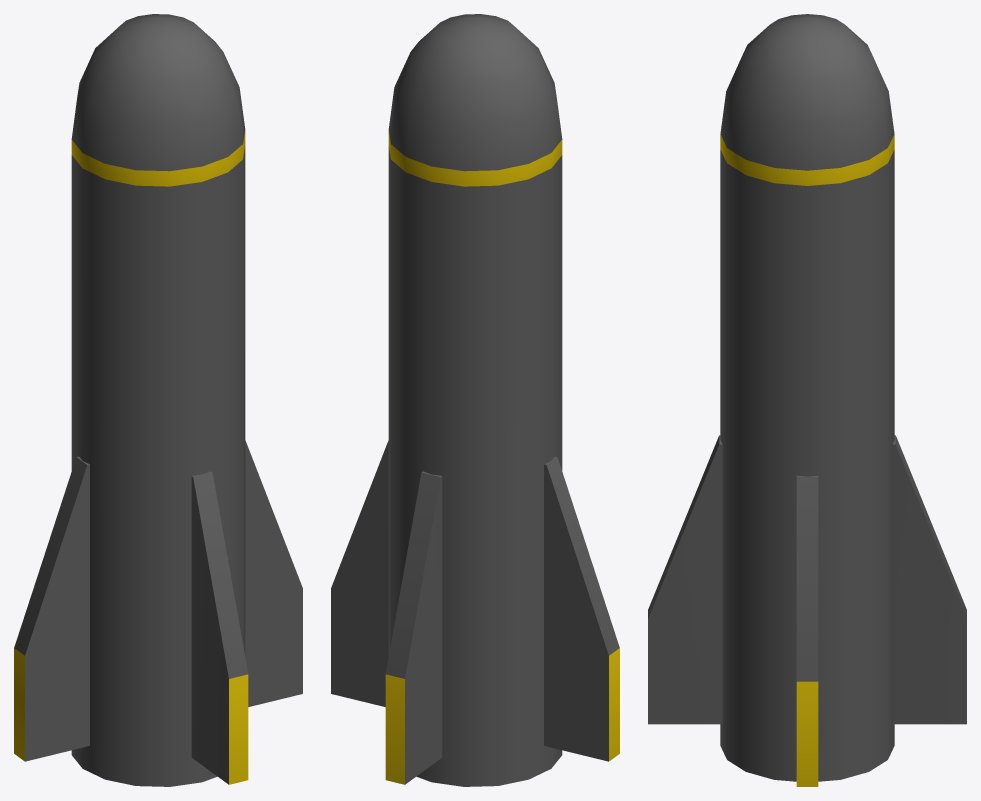
Rendered from missile.fbx.
3 renders of one model, left to right at view 1: azimuth 30°, elevation 25°; view 2: azimuth 150°, elevation 25°; view 3: azimuth 270°, elevation 25°, orthographic.
Visible parts, largest first — view 1: missile; view 2: missile; view 3: missile.
Boxes of the visible parts, <box> form: missile: <box>14,14,302,786</box>; missile: <box>331,14,619,786</box>; missile: <box>648,14,966,786</box>.
Bounding box in the file's own units: 0.044 × 0.11 × 0.044.
